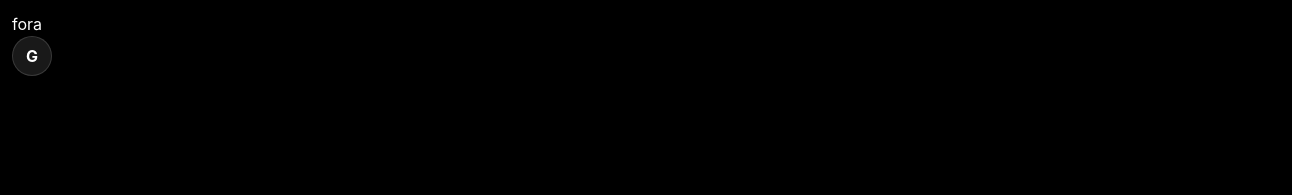
Test: AccountMenu fecha ao clicar fora
Click the button named "Conta de Gabriel" at x=32, y=56, box [12,36,52,76]
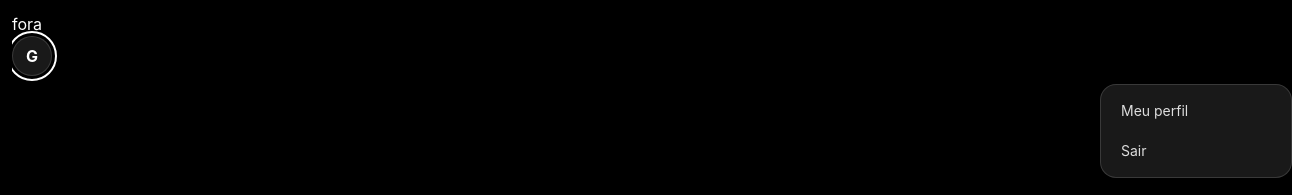
Click the text "fora" at x=27, y=24, box [12,14,42,34]
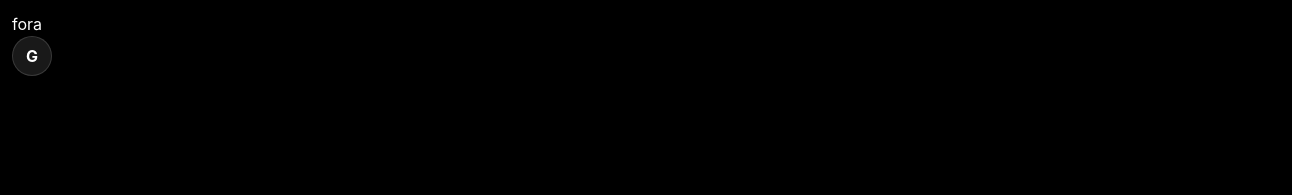
Expected: the link "Meu perfil" is gone
